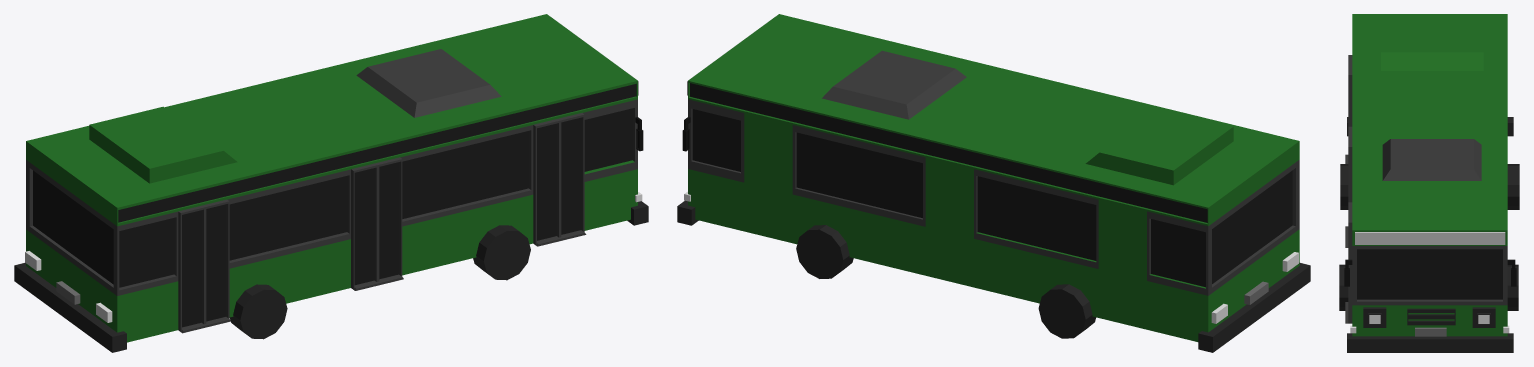
The model's file is Bus.fbx.
3 renders of one model, left to right at view 1: azimuth 30°, elevation 25°; view 2: azimuth 150°, elevation 25°; view 3: azimuth 270°, elevation 25°, orthographic. The views are drawn at different scales.
Parts seen in each view (by area): view 1: Cube.169, Cube.156, Cube.168, Cube.166, Cube.167, Cube.155, Cube.158, Cylinder.017, Cylinder.018; view 2: Cube.169, Cube.156, Cube.155, Cube.158, Cylinder.043, Cylinder.042; view 3: Cube.169, Cube.156, Cube.155, Cube.165, Cube.161, Cube.168, Cylinder.043, Cube.162, Cube.163, Cube.167, Cylinder.042, Cylinder.018 (+6 smaller).
Part boxes in pixels (x1,y1,x2,y2): Cube.169: (26, 14, 638, 342); Cube.156: (89, 106, 237, 183); Cube.168: (533, 113, 586, 246); Cube.166: (178, 199, 230, 333); Cube.167: (351, 157, 403, 290); Cube.155: (356, 49, 501, 117); Cube.158: (14, 263, 126, 352); Cylinder.017: (473, 225, 530, 280); Cylinder.018: (230, 284, 287, 339); Cube.169: (687, 14, 1299, 341); Cube.156: (1085, 108, 1233, 185); Cube.155: (822, 50, 966, 119); Cube.158: (1198, 263, 1310, 352); Cylinder.043: (1038, 284, 1096, 338); Cylinder.042: (796, 225, 853, 278); Cube.169: (1352, 14, 1507, 336); Cube.156: (1381, 21, 1483, 70); Cube.155: (1382, 139, 1481, 180); Cube.165: (1347, 333, 1513, 352); Cube.161: (1407, 308, 1455, 325); Cube.168: (1345, 202, 1352, 323); Cylinder.043: (1507, 164, 1519, 209); Cube.162: (1472, 307, 1495, 327); Cube.163: (1363, 307, 1386, 327); Cube.167: (1345, 126, 1352, 247); Cylinder.042: (1507, 264, 1518, 310); Cylinder.018: (1340, 164, 1348, 209).
Bounding box in the file's own units: 1998 × 623 × 683.
